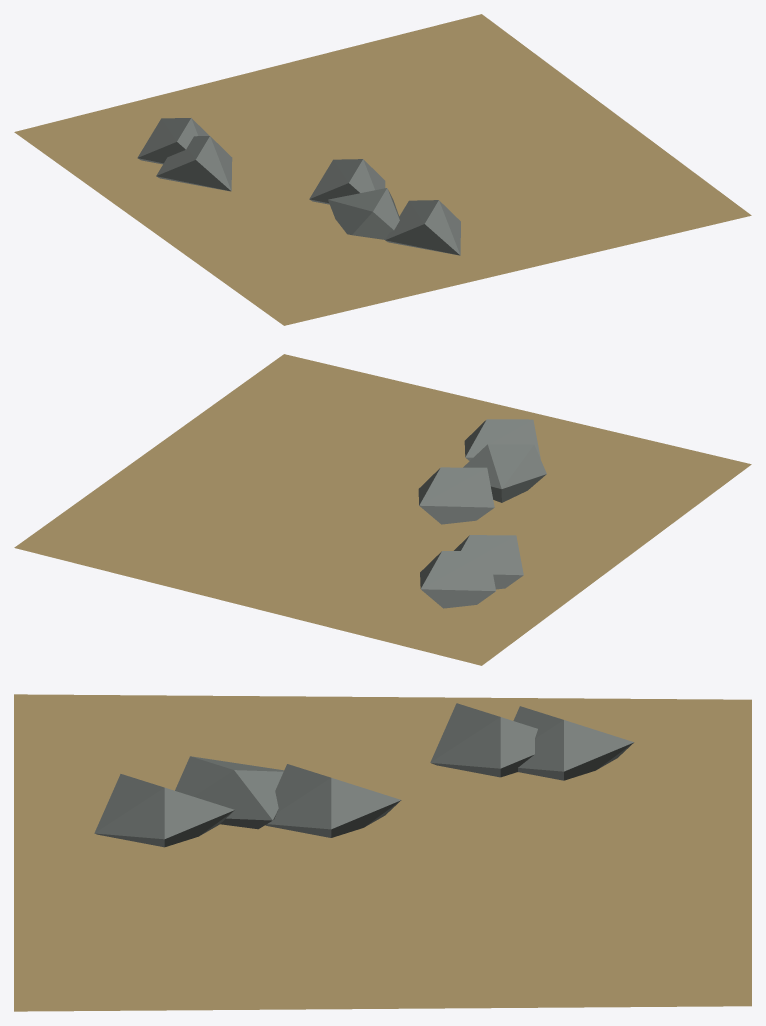
Rendered from coast-seabed.lod2.glb.
3 renders of one model, top to bottom at view 1: azimuth 30°, elevation 25°; view 2: azimuth 150°, elevation 25°; view 3: azimuth 270°, elevation 25°, orthographic. The views are drawn at different scales.
Visible parts, largest first — view 1: coast-seabed__body; view 2: coast-seabed__body; view 3: coast-seabed__body.
Boxes of the visible parts, <box> form: coast-seabed__body: <box>14,14,751,325</box>; coast-seabed__body: <box>14,354,751,665</box>; coast-seabed__body: <box>14,694,751,1011</box>.
Size of the model in its own units: 4.01 by 0.4436 by 4.01.
